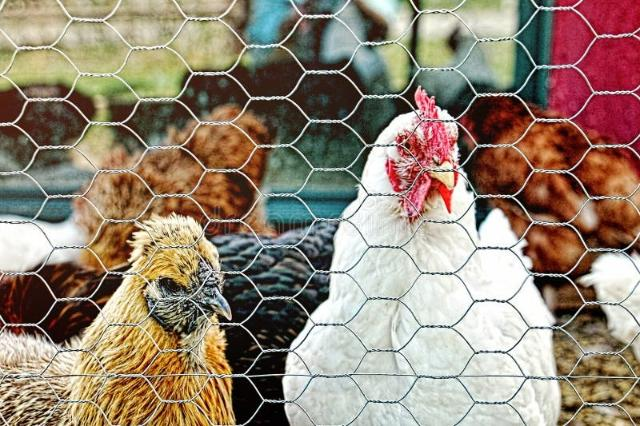Chicken: (282, 86, 561, 426), (0, 213, 236, 425)
